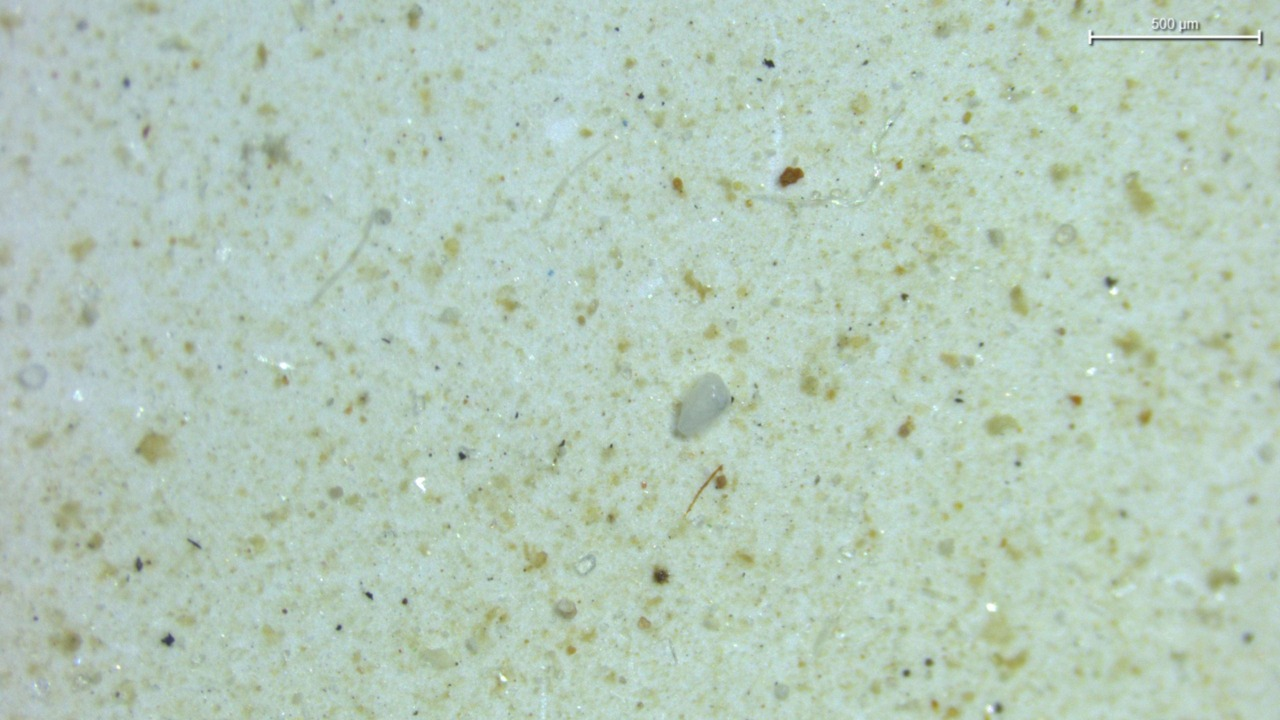microplastic_fragment: (675, 373, 731, 437)
